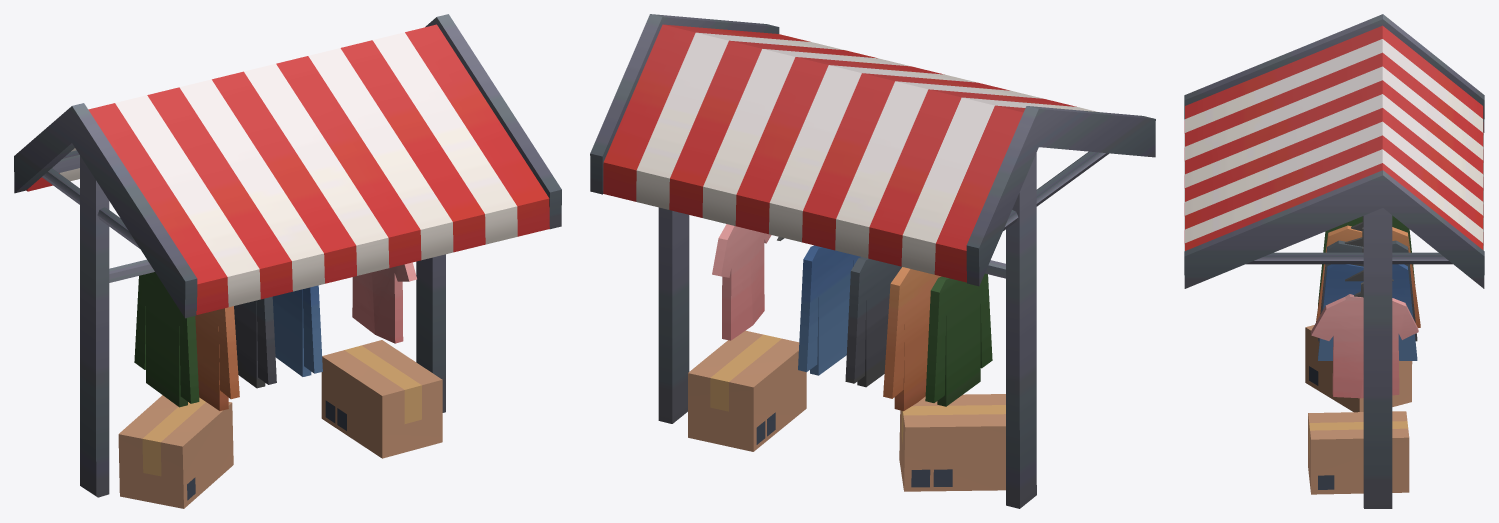
File: Clothes Cart.fbx
The picture shows the model from 3 angles, left to right: view 1: azimuth 30°, elevation 25°; view 2: azimuth 150°, elevation 25°; view 3: azimuth 270°, elevation 25°; orthographic projection. The views are drawn at different scales.
Visible parts, largest first — view 1: Clothes_Cart; view 2: Clothes_Cart; view 3: Clothes_Cart.
Part boxes in pixels (x1,y1,x2,y2): Clothes_Cart: (14, 14, 561, 508); Clothes_Cart: (590, 14, 1155, 508); Clothes_Cart: (1184, 14, 1484, 508).
Bounding box in the file's own units: 261 × 257 × 205.
